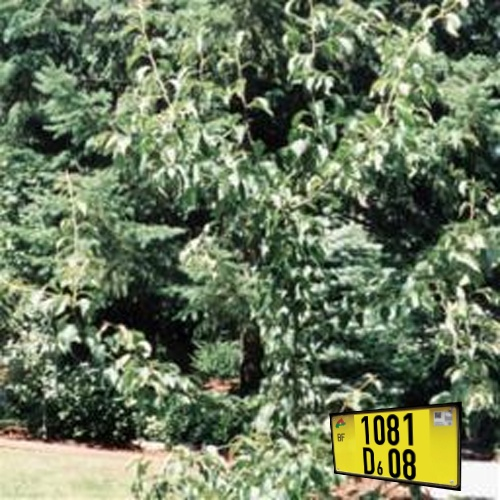plate: (324, 396, 472, 500)
